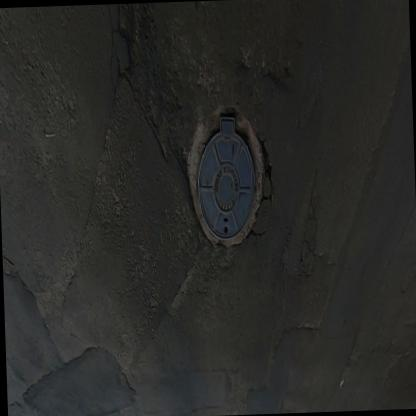manholes: (189, 97, 264, 258)
